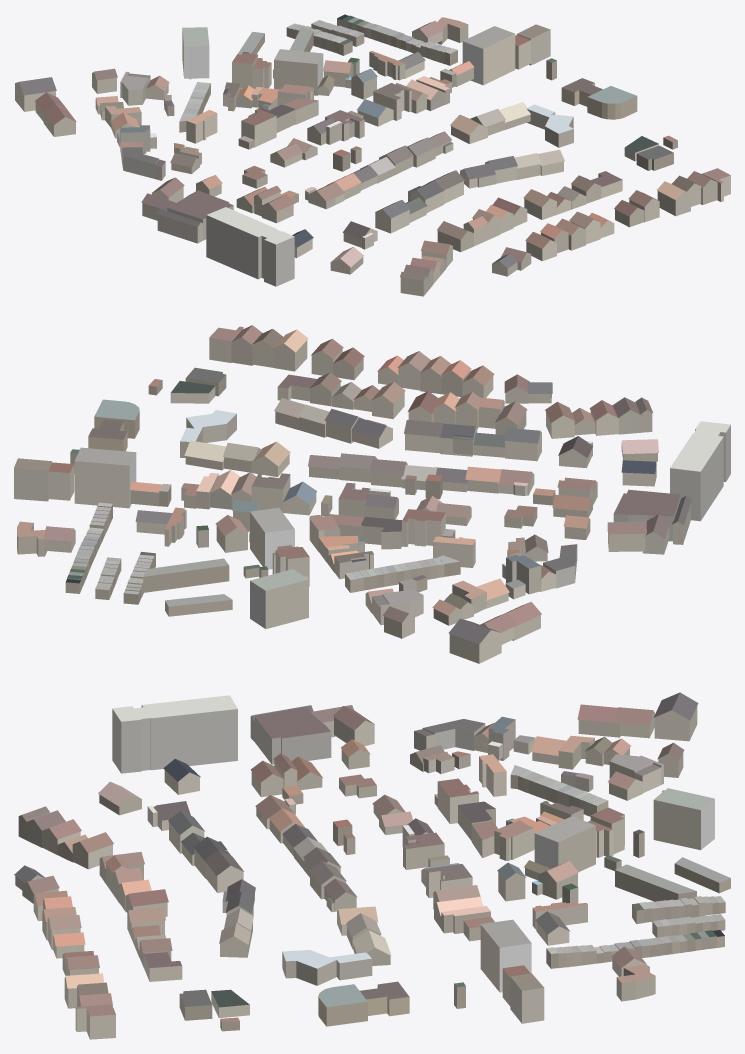
The picture shows the model from 3 angles, top to bottom: view 1: azimuth 30°, elevation 25°; view 2: azimuth 150°, elevation 25°; view 3: azimuth 270°, elevation 25°; orthographic projection. The views are drawn at different scales.
Parts seen in each view (by area): view 1: tuile; view 2: tuile; view 3: tuile.
Part boxes in pixels (x1,y1,x2,y2): tuile: (15,14,730,296); tuile: (14,325,730,663); tuile: (14,692,730,1039).
Bounding box in the file's own units: 249 × 26.49 × 257.
